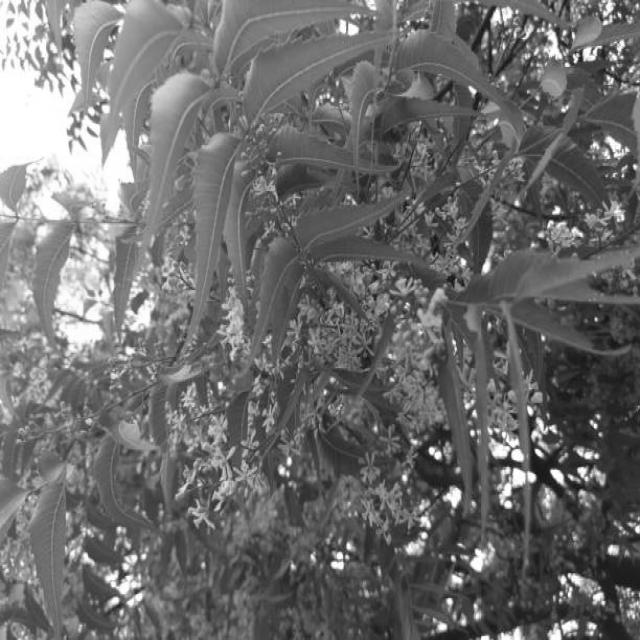Neem-Tree: (54, 0, 594, 524)
